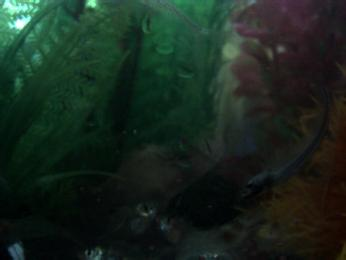X-ray fish: (115, 197, 157, 242), (76, 238, 138, 260), (158, 211, 191, 248)
glassfish: (238, 79, 335, 201), (137, 1, 216, 47)
siberian prawn: (173, 204, 272, 260)
